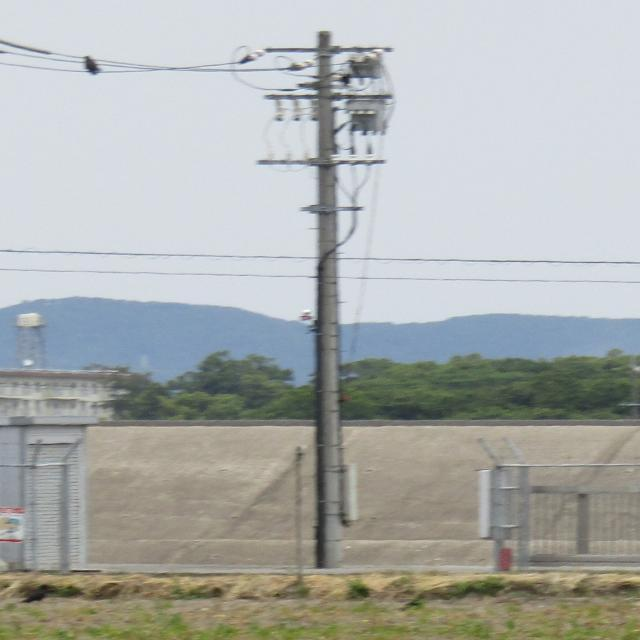pole: (224, 22, 456, 572)
